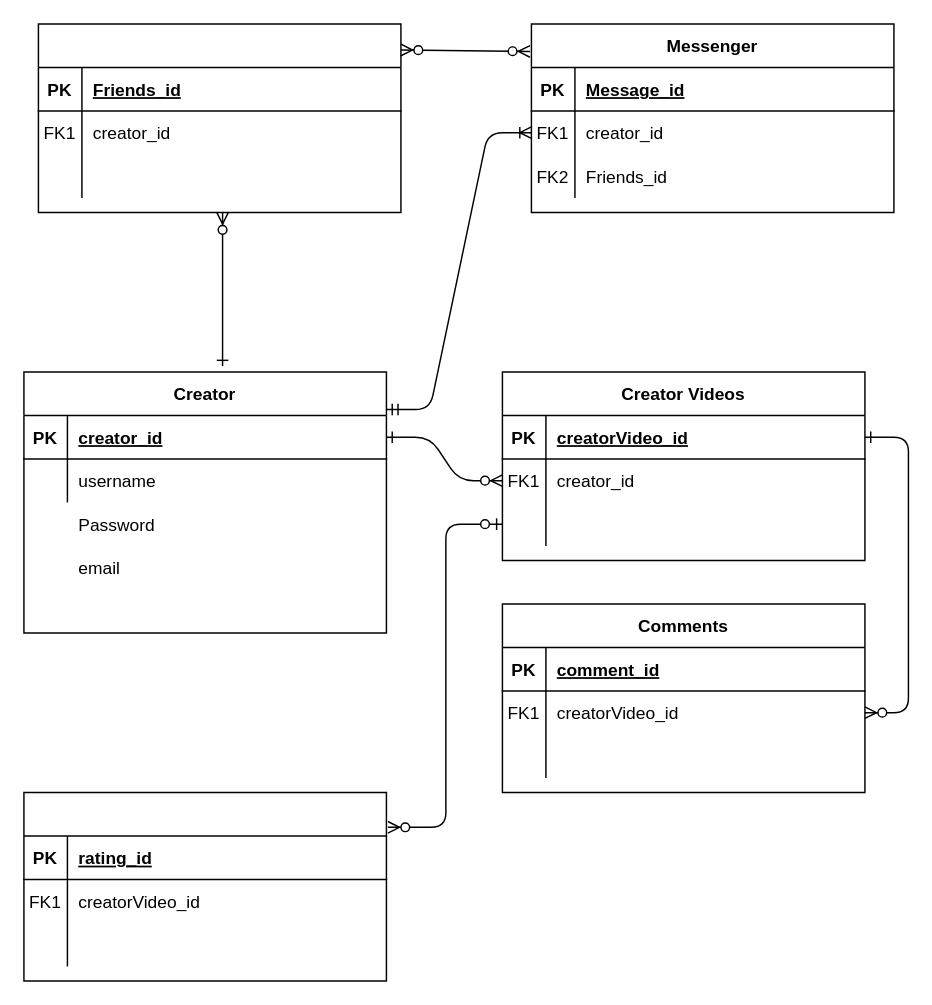
The diagram is 932 pixels wide and 1005 high, and some of its shapes have lost their labels. The box of each missing label's shape, as (x1, y1, x2, y2) in pixels:
Friends List: (37, 22, 401, 212)
Ratings: (22, 791, 386, 981)
